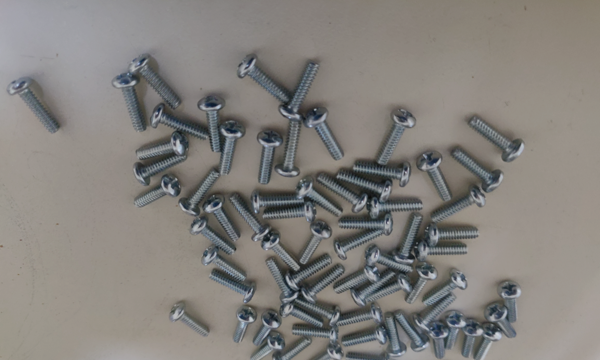shortscrew: (129, 54, 182, 110), (7, 77, 59, 134), (467, 115, 525, 163), (278, 59, 321, 122), (238, 55, 292, 104), (451, 146, 505, 194), (376, 108, 417, 165), (431, 185, 487, 224), (304, 108, 345, 161), (178, 167, 221, 217), (229, 193, 272, 243), (151, 103, 209, 140), (112, 72, 147, 133), (317, 173, 369, 214), (415, 150, 453, 202), (190, 215, 238, 256), (203, 192, 241, 242), (300, 264, 346, 305), (337, 170, 393, 203), (201, 246, 249, 284), (284, 255, 333, 292), (422, 269, 468, 308), (134, 153, 188, 186), (414, 293, 458, 333), (352, 270, 398, 308), (335, 228, 387, 261), (209, 269, 258, 304), (262, 230, 302, 272), (133, 174, 182, 208), (392, 213, 424, 265), (134, 131, 189, 161), (394, 309, 431, 353), (363, 273, 413, 305), (265, 257, 299, 304), (353, 161, 412, 188), (218, 120, 246, 176), (198, 95, 225, 153), (275, 120, 302, 178), (299, 220, 333, 266), (405, 263, 439, 306), (333, 265, 381, 295), (258, 130, 284, 185), (170, 301, 210, 336), (365, 246, 415, 274), (368, 196, 424, 220), (294, 299, 341, 327), (425, 224, 480, 247), (280, 300, 325, 328), (484, 303, 518, 340), (337, 214, 394, 236), (338, 302, 384, 327), (473, 322, 503, 360), (342, 325, 389, 348), (253, 309, 282, 346), (498, 280, 522, 324), (384, 313, 408, 357), (272, 335, 313, 360), (233, 305, 258, 345), (251, 331, 285, 360), (445, 310, 467, 353), (461, 320, 484, 359), (428, 322, 450, 360), (306, 342, 344, 360), (345, 352, 392, 360)
